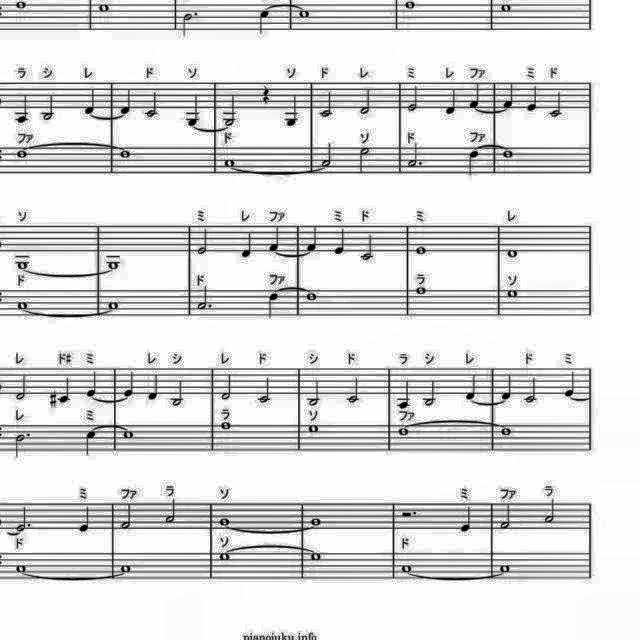Diez: (46, 388, 58, 410)
Full-note: (105, 254, 124, 272), (296, 6, 312, 22), (498, 146, 516, 160), (12, 256, 30, 270), (504, 286, 520, 300), (497, 0, 513, 14), (506, 246, 522, 260), (96, 0, 112, 14), (116, 146, 132, 160), (497, 561, 513, 575), (12, 145, 28, 159), (497, 424, 513, 438), (306, 422, 322, 436), (304, 289, 320, 303), (220, 156, 236, 170), (402, 0, 420, 12), (413, 244, 429, 256), (12, 0, 28, 12), (121, 428, 137, 440), (216, 516, 232, 528), (308, 516, 324, 528), (414, 284, 430, 296), (105, 300, 121, 312), (13, 300, 29, 312), (216, 552, 232, 564), (12, 562, 28, 574), (398, 562, 414, 574), (117, 562, 133, 574), (308, 552, 324, 564), (218, 420, 232, 432), (396, 425, 410, 437)
Half-dot: (11, 428, 35, 459), (406, 141, 426, 171), (196, 284, 216, 312), (14, 504, 34, 532)
Half-note: (181, 8, 203, 40), (220, 95, 238, 129), (356, 232, 376, 262), (257, 374, 275, 406), (345, 371, 363, 403), (142, 88, 160, 120), (524, 372, 542, 403), (39, 93, 57, 123), (169, 378, 187, 408), (196, 223, 212, 255), (356, 146, 372, 178), (304, 376, 320, 408), (548, 90, 566, 118), (12, 372, 28, 403), (422, 378, 438, 409), (162, 495, 178, 525), (406, 84, 422, 114), (218, 372, 234, 402), (498, 501, 514, 531), (118, 502, 134, 532), (544, 496, 560, 524), (318, 142, 334, 170), (360, 86, 374, 118), (318, 90, 334, 118)
Half-rest: (398, 508, 420, 522)
Quarter-note: (182, 92, 202, 126), (14, 91, 34, 125), (282, 92, 300, 128), (394, 378, 412, 410), (524, 84, 540, 116), (237, 228, 253, 260), (58, 374, 74, 406), (144, 372, 160, 404), (122, 368, 138, 399), (83, 367, 99, 398), (562, 370, 578, 400), (76, 505, 92, 535), (458, 505, 474, 535), (498, 372, 514, 402), (462, 371, 478, 401), (444, 87, 460, 117), (500, 81, 516, 111), (468, 147, 484, 177), (82, 427, 98, 457), (258, 6, 274, 36), (304, 224, 320, 253), (84, 87, 100, 115), (268, 225, 284, 253), (334, 226, 348, 258), (118, 88, 134, 116), (466, 82, 482, 110), (266, 292, 282, 320)
Quarter-rest: (260, 82, 276, 106)
